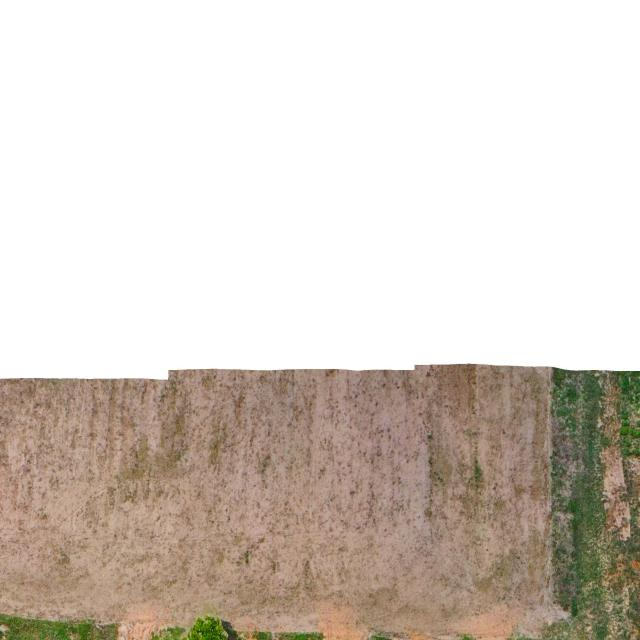Tree: (180, 614, 229, 640)
